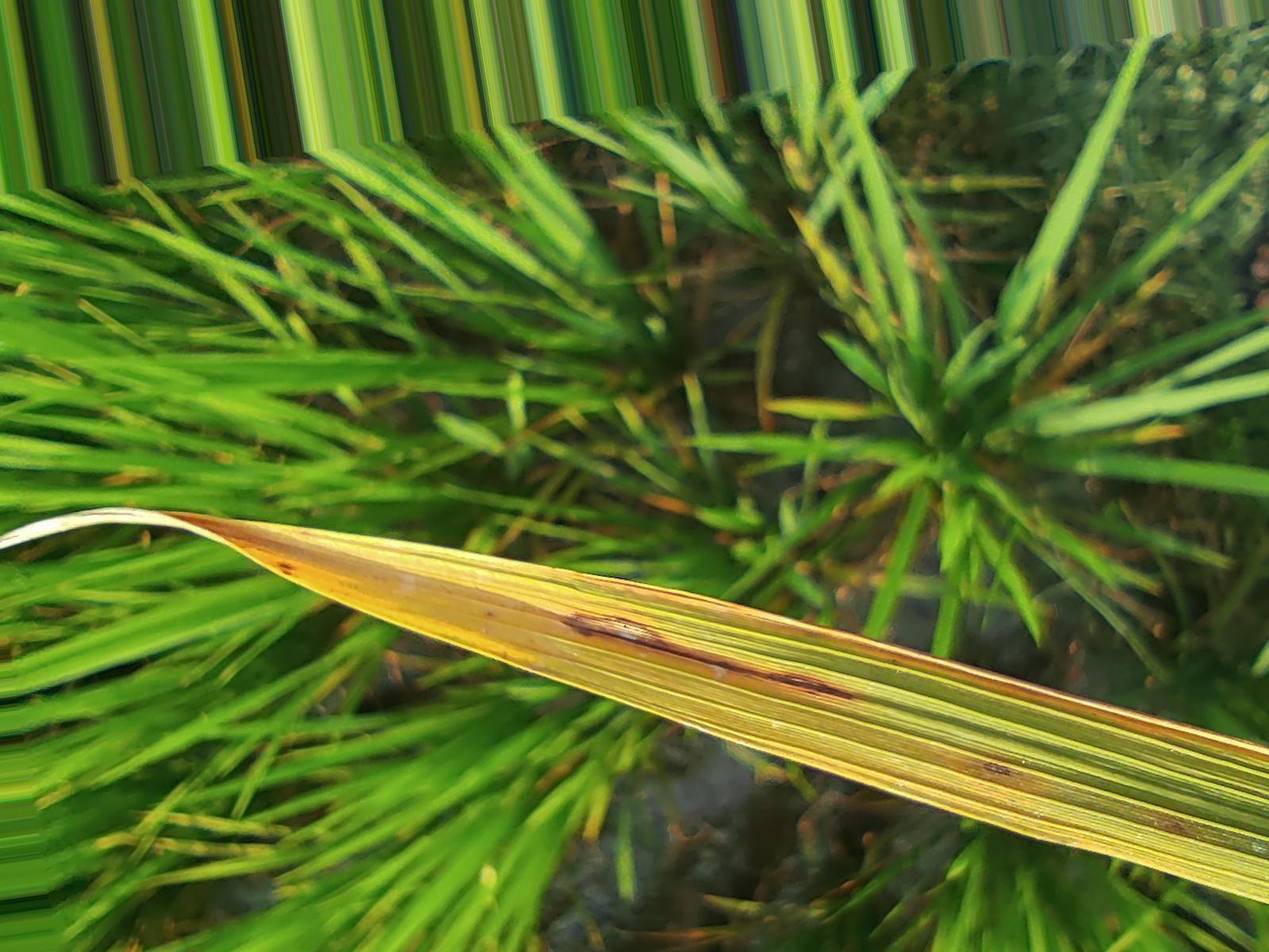LEAF: (0, 507, 1268, 900)
LEAF BLAST: (560, 612, 852, 698), (982, 762, 1011, 776)
